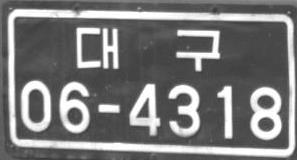0: (20, 78, 51, 132)
1: (212, 85, 244, 138)
3: (168, 82, 201, 137)
4: (128, 83, 161, 136)
6: (57, 80, 91, 134)
8: (250, 86, 283, 140)
대구_D: (75, 24, 221, 72)
